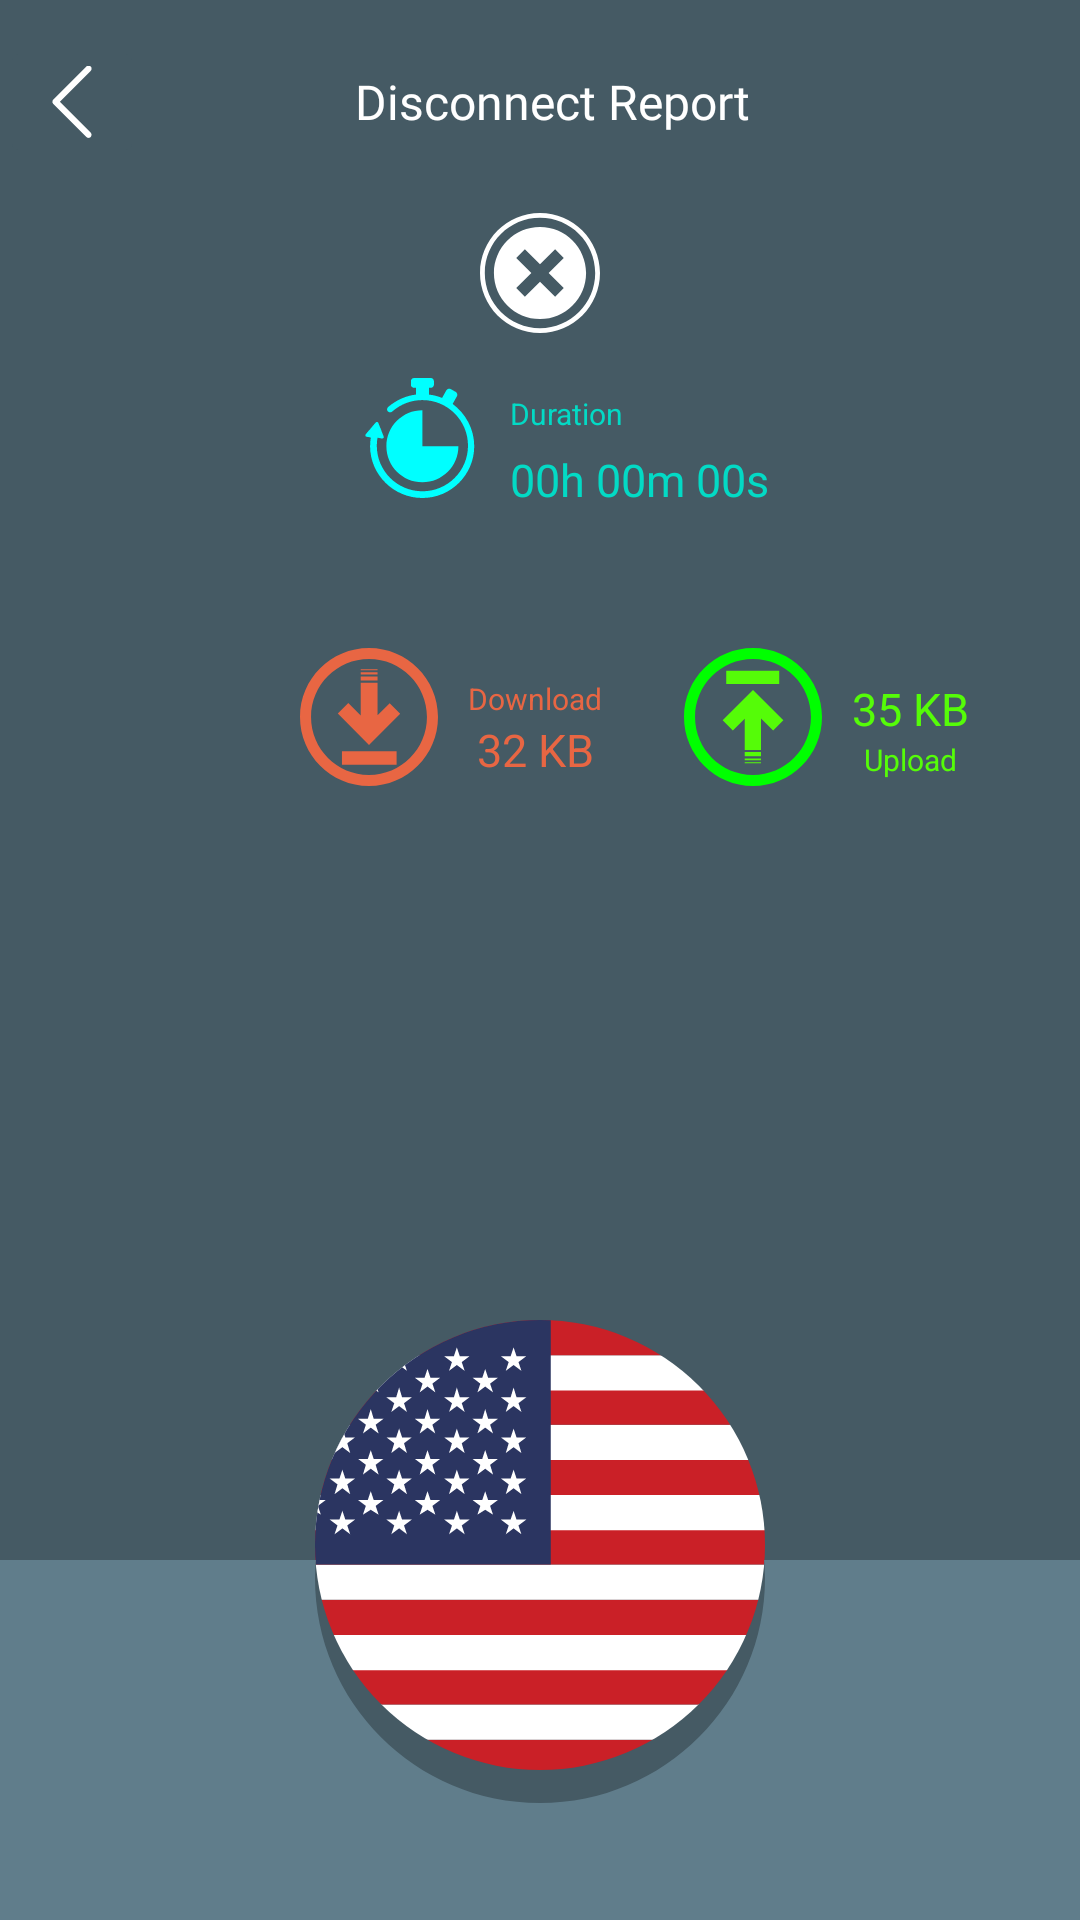

Named icons in this screenshot (1080px x 1920px) and their bounding boxes, region(x1, y1, x2, y2):
arrow back: region(52, 66, 92, 138)
close: region(480, 213, 600, 333)
